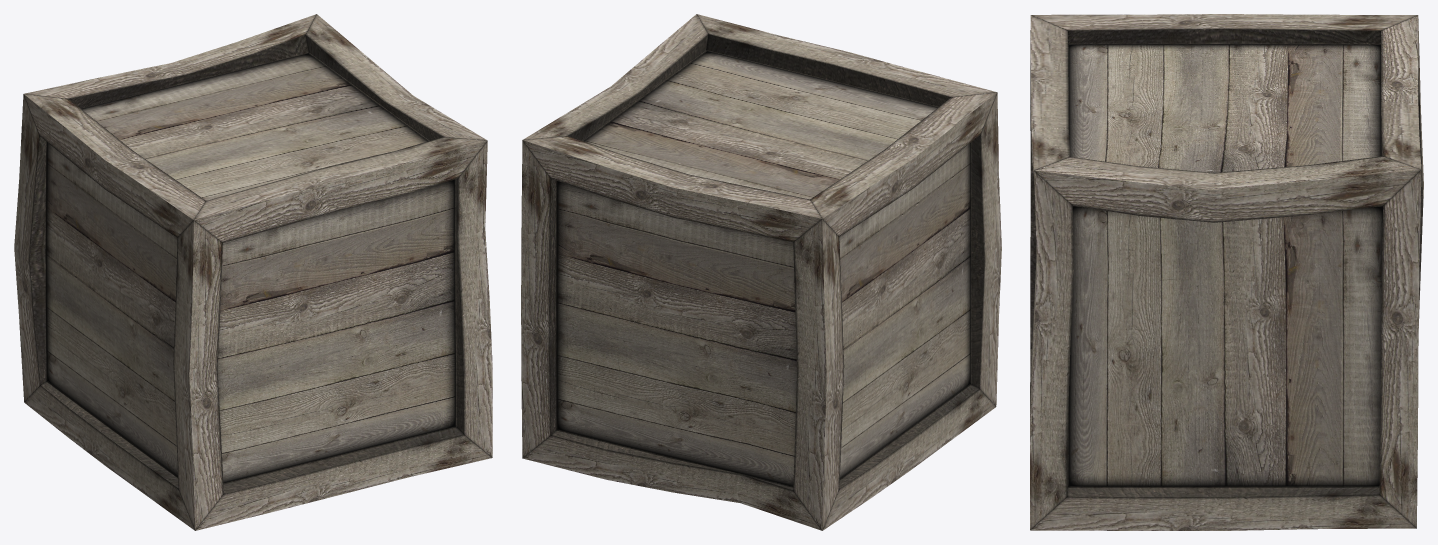
Rendered from Crate_LOD0.obj.
The picture shows the model from 3 angles, left to right: view 1: azimuth 30°, elevation 25°; view 2: azimuth 150°, elevation 25°; view 3: azimuth 270°, elevation 25°; orthographic projection. The views are drawn at different scales.
Visible parts, largest first — view 1: Crate_LOD1; view 2: Crate_LOD1; view 3: Crate_LOD1.
Part boxes in pixels (x1,y1,x2,y2): Crate_LOD1: (14, 14, 492, 530); Crate_LOD1: (521, 14, 1001, 530); Crate_LOD1: (1030, 14, 1423, 530).
Size of the model in its own units: 0.6185 by 0.6123 by 0.6079.
